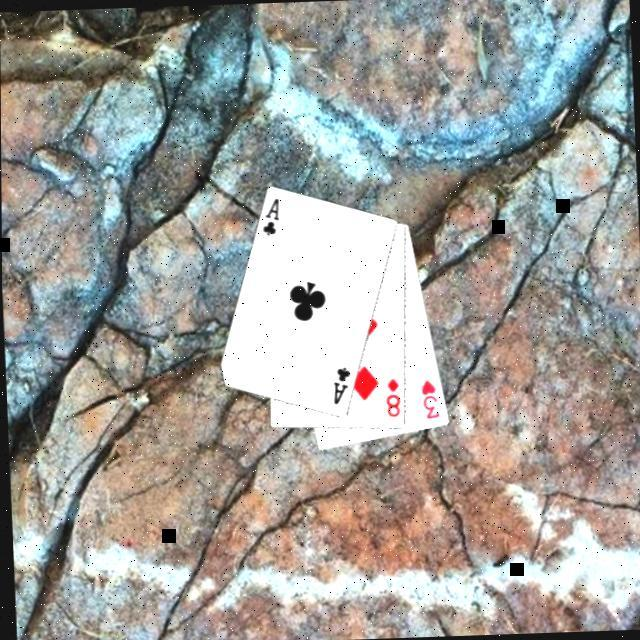3H: (418, 377, 442, 422)
8D: (382, 376, 403, 420)
AC: (330, 365, 354, 408), (260, 196, 282, 239)
